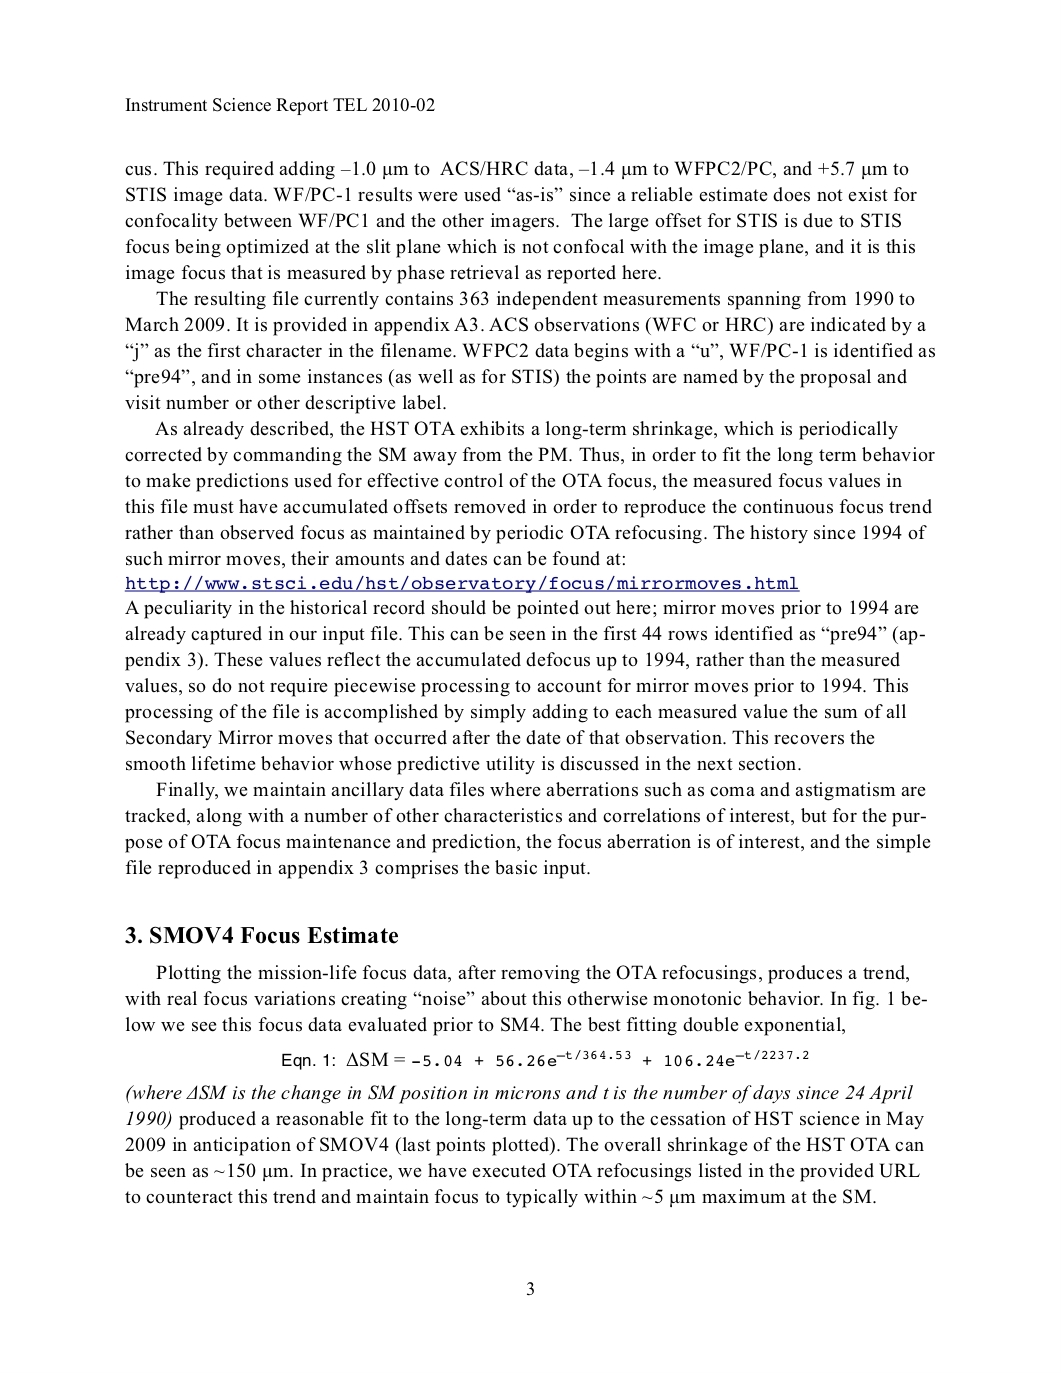formula: (282, 1049, 808, 1070)
